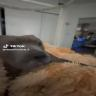dog: (0, 34, 96, 96)
